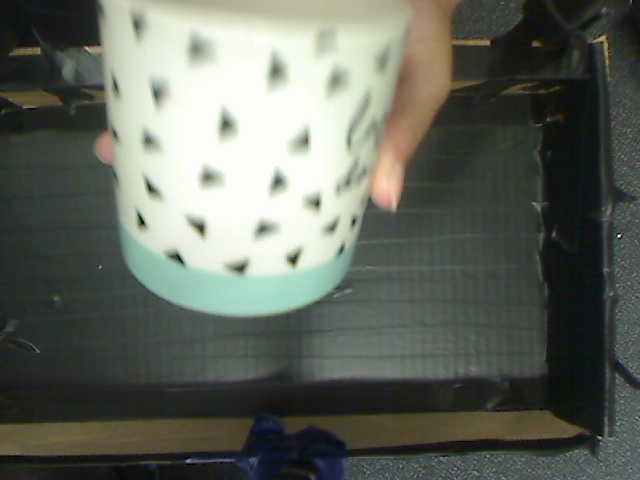mug: (99, 1, 421, 324)
